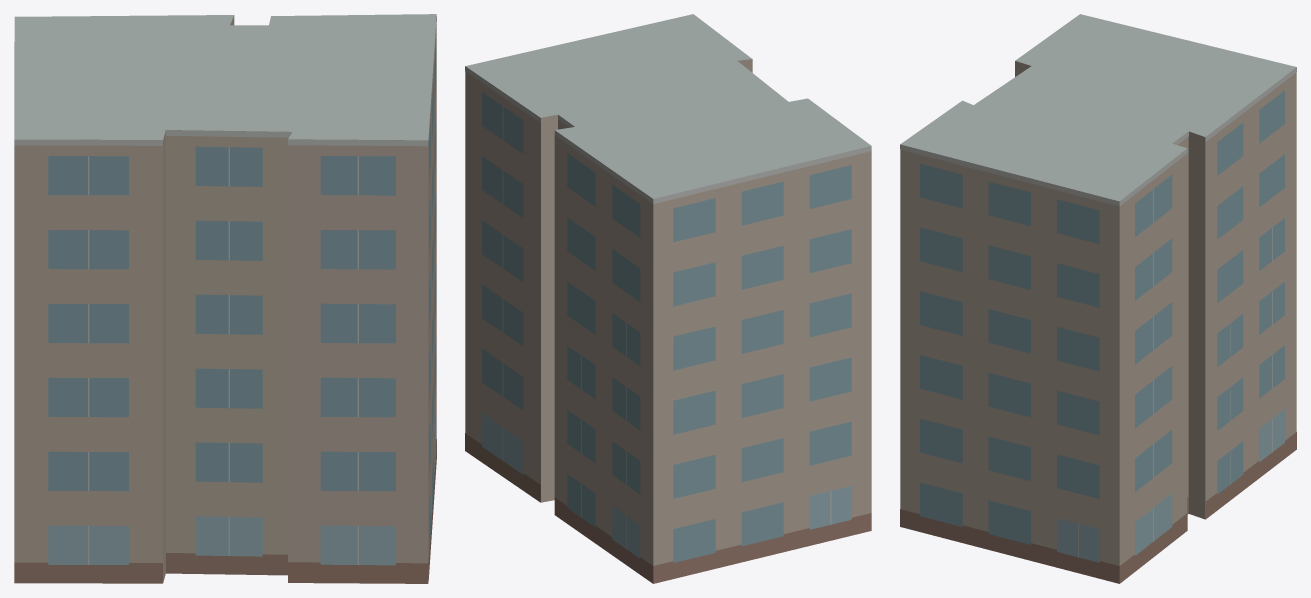
Rendered from survey-upis-32724114.glb.
3 views of the same model, side by side, from view 1: azimuth 30°, elevation 25°; view 2: azimuth 150°, elevation 25°; view 3: azimuth 270°, elevation 25° (orthographic). The views are drawn at different scales.
Visible parts, largest first — view 1: survey-upis-32724114.tmp; view 2: survey-upis-32724114.tmp; view 3: survey-upis-32724114.tmp.
Part boxes in pixels (x1=…): survey-upis-32724114.tmp: x1=14, y1=14, x2=436, y2=583; survey-upis-32724114.tmp: x1=465, y1=14, x2=871, y2=583; survey-upis-32724114.tmp: x1=900, y1=14, x2=1296, y2=583.
Bounding box in the file's own units: 19.24 × 18.3 × 17.21.
